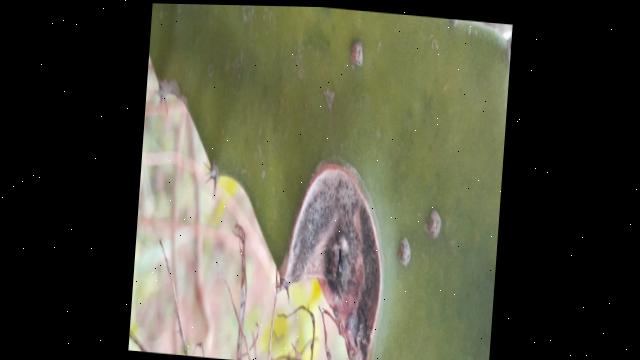stemcanker: (393, 236, 415, 268), (424, 206, 444, 240), (348, 37, 367, 70)
